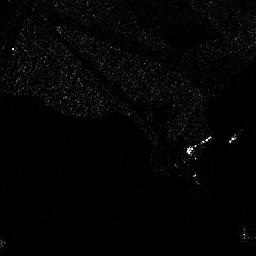ship: (186, 134, 212, 154)
